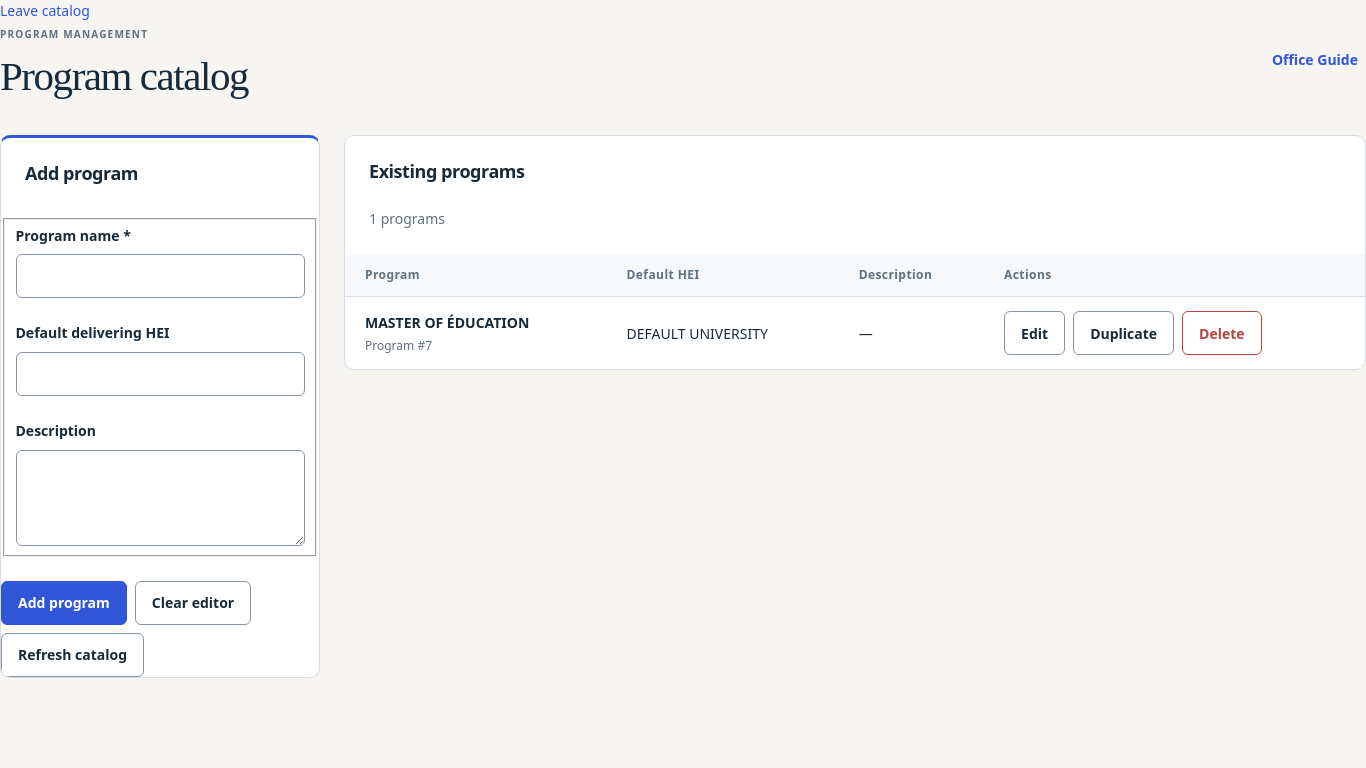
Test: in-flight catalog duplication blocks leaving and preserves the new program identity
Click the button "Duplicate": (1124, 333) [1073, 311, 1174, 355]
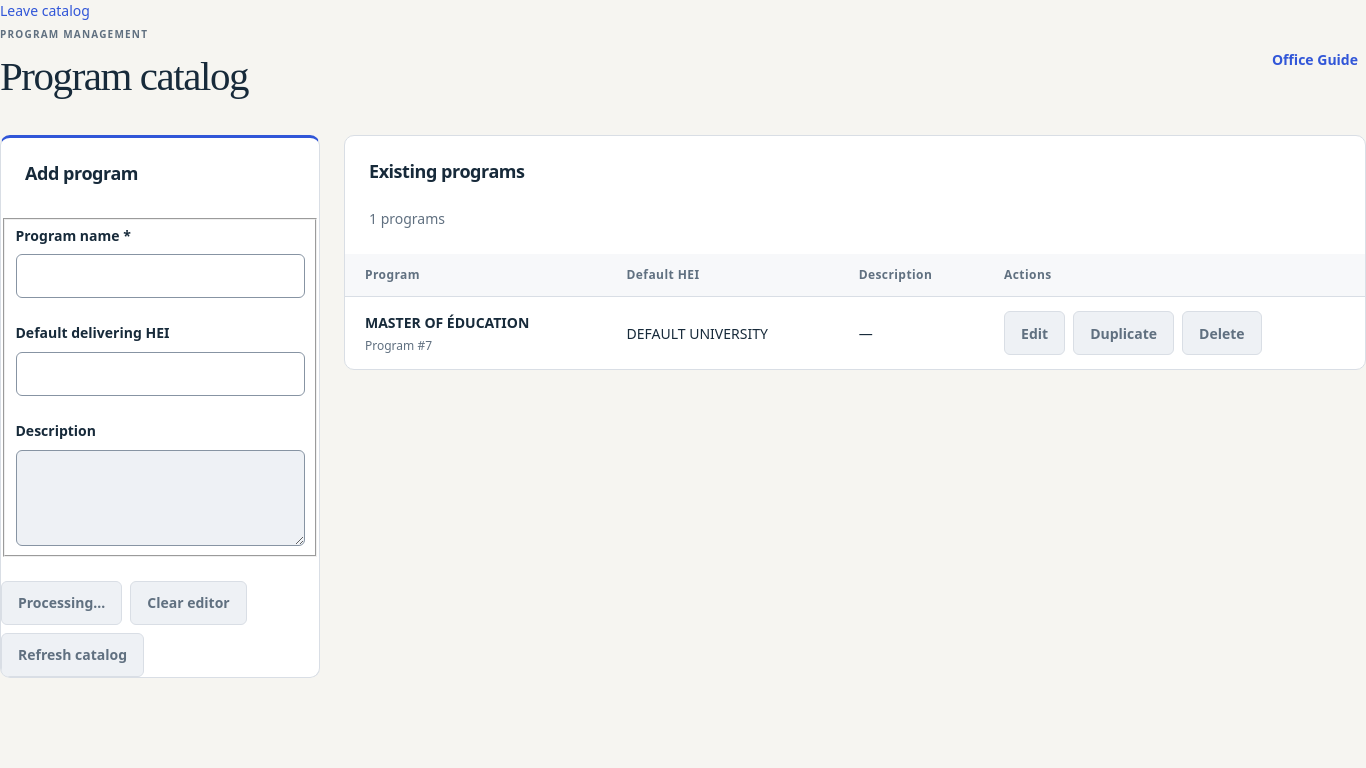
Click the link "Leave catalog": (45, 10) [0, 1, 90, 20]
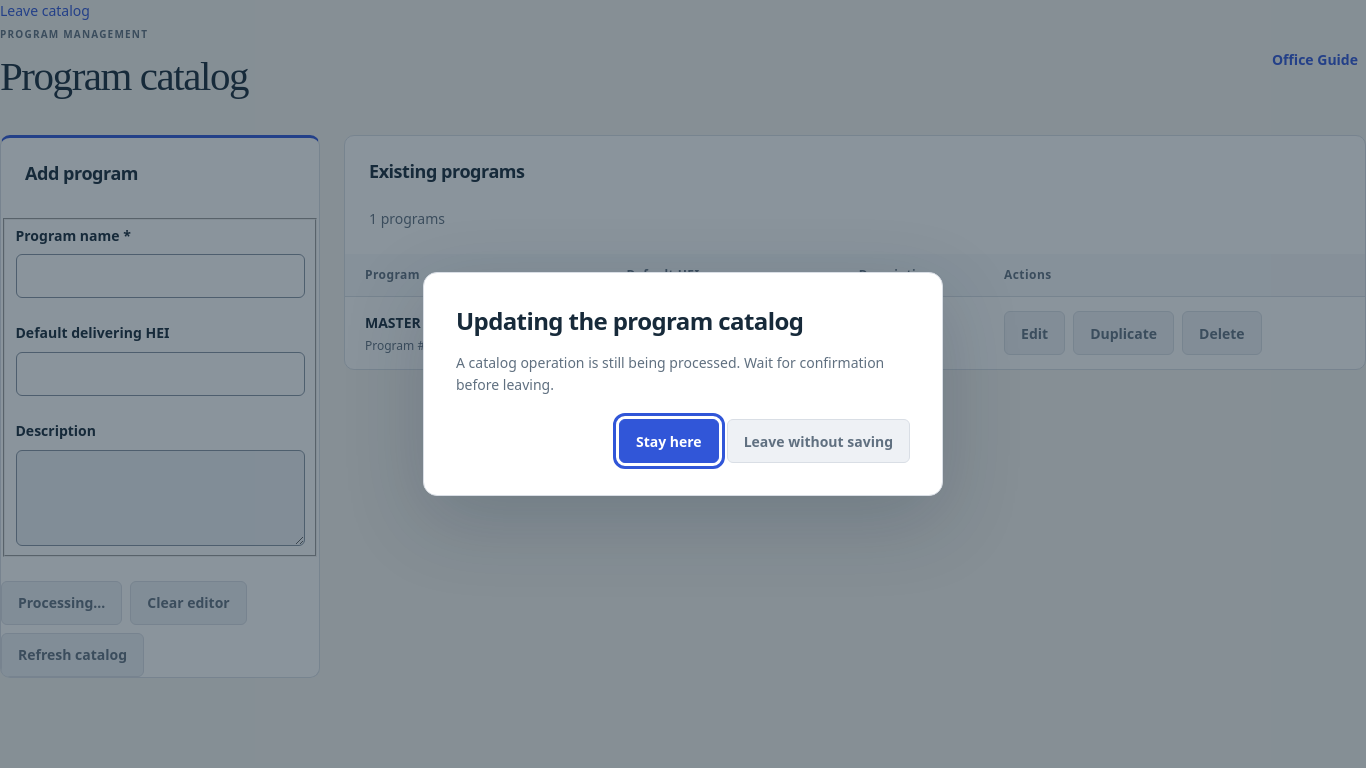
Result: the heading "Updating the program catalog" is shown at [456, 304, 803, 337]
Result: the button "Leave without saving" is disabled at [727, 419, 910, 463]
Click the button "Stay here": (669, 441) [619, 419, 719, 463]
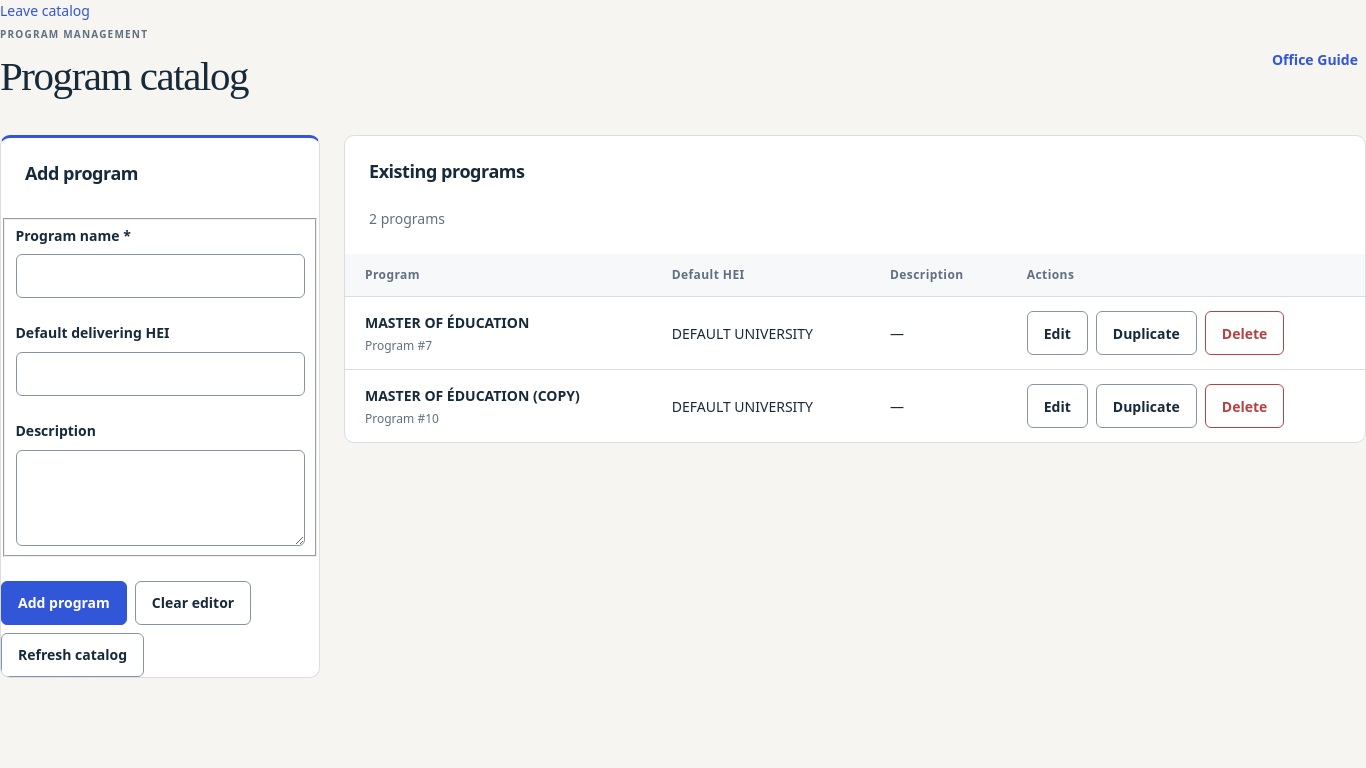
Result: the text "Program #10" is shown at [365, 410, 439, 427]
